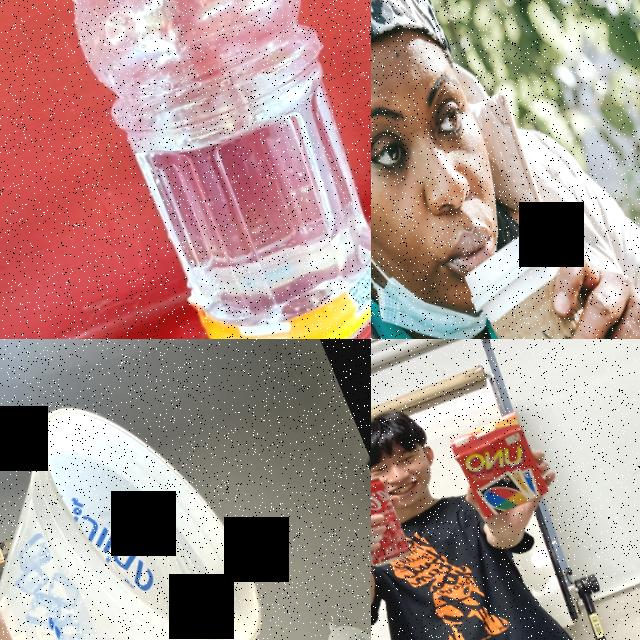bottle: (8, 0, 371, 339)
can: (371, 471, 415, 571)
cup: (0, 362, 295, 640), (449, 214, 637, 339)
